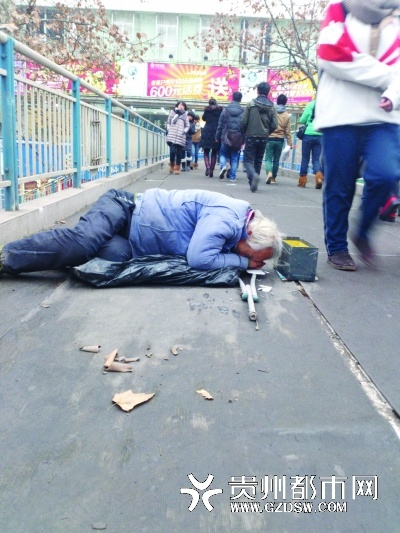falling: (5, 175, 277, 297)
